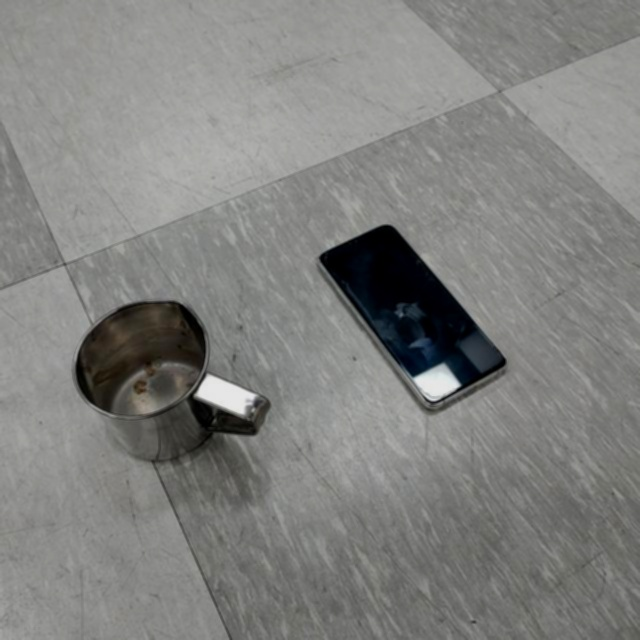cup: (74, 299, 273, 461)
phone: (317, 221, 510, 413)
